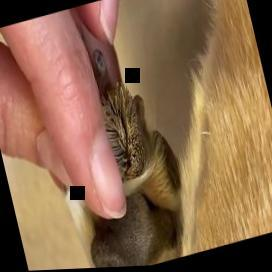keratosis: (93, 73, 162, 188)
